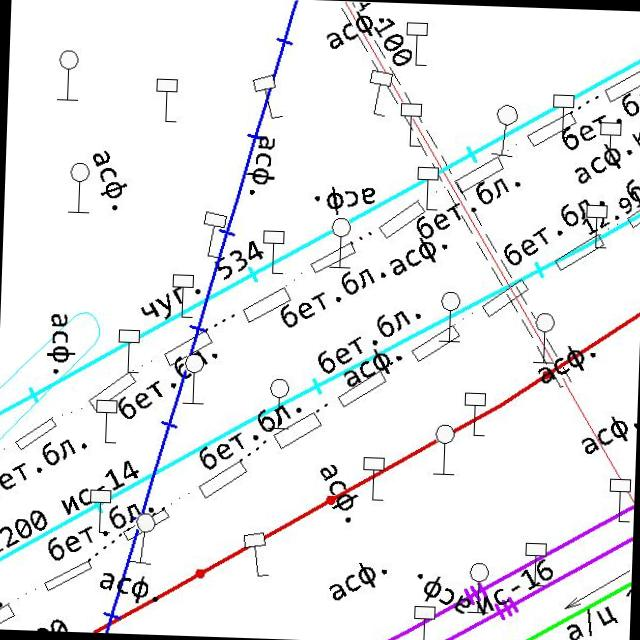asphalt: (316, 462, 361, 524), (328, 558, 388, 604), (574, 141, 634, 186), (342, 346, 403, 390), (324, 9, 384, 53), (388, 234, 448, 278), (535, 344, 597, 386), (90, 148, 130, 212), (414, 572, 472, 614), (580, 413, 636, 456), (45, 310, 78, 376), (312, 183, 376, 217), (98, 570, 158, 606), (245, 134, 278, 196)
sing: (248, 72, 286, 120), (489, 102, 518, 160), (241, 530, 272, 580), (54, 48, 82, 102), (430, 422, 458, 476), (128, 512, 156, 566), (364, 67, 393, 119), (326, 215, 353, 270), (200, 208, 228, 259), (66, 160, 92, 214), (532, 310, 557, 364), (396, 100, 424, 148), (549, 92, 577, 140), (153, 75, 180, 124), (181, 352, 206, 404), (414, 164, 441, 212), (169, 271, 196, 319), (266, 376, 290, 430), (438, 290, 462, 344), (461, 390, 488, 438), (521, 540, 548, 588), (466, 560, 490, 614), (606, 476, 633, 524), (259, 228, 287, 274), (93, 397, 119, 445), (403, 19, 429, 67), (360, 454, 386, 502), (86, 488, 112, 534), (116, 327, 140, 374), (598, 120, 622, 166), (584, 202, 608, 248)
